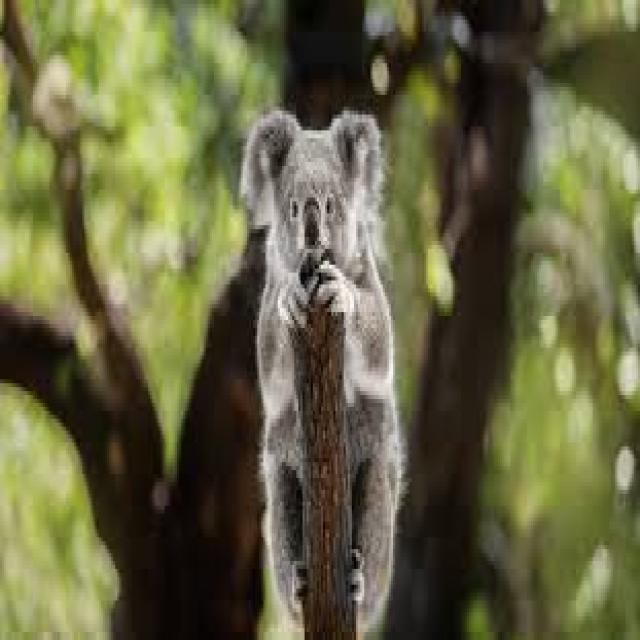Koala: (239, 104, 408, 636)
